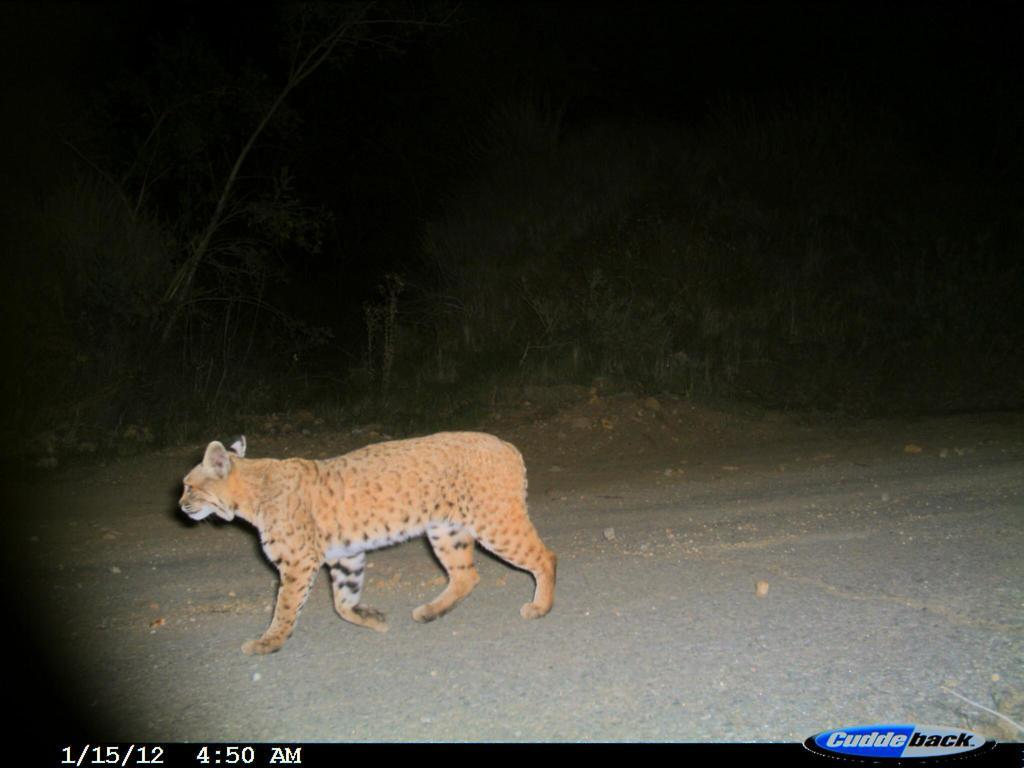bobcat: (166, 422, 578, 662)
